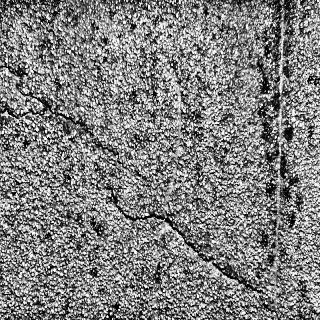crack: (4, 56, 290, 317)
